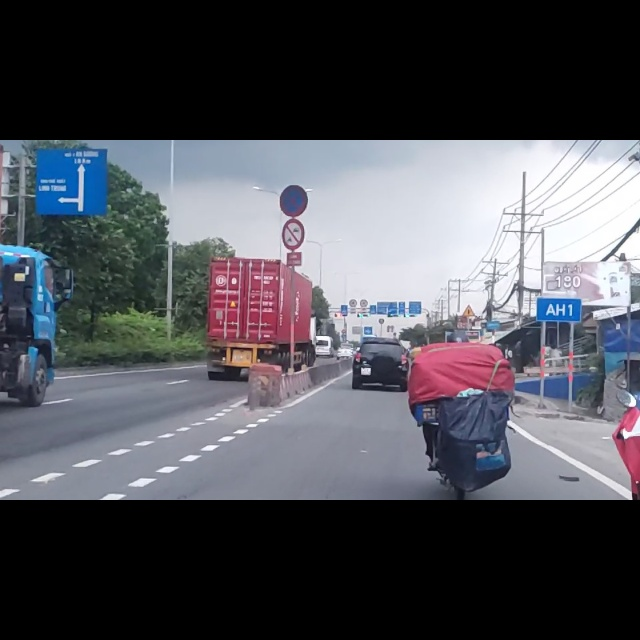bien_chi_dan: (279, 79, 308, 136), (280, 139, 306, 194), (281, 140, 306, 195)
